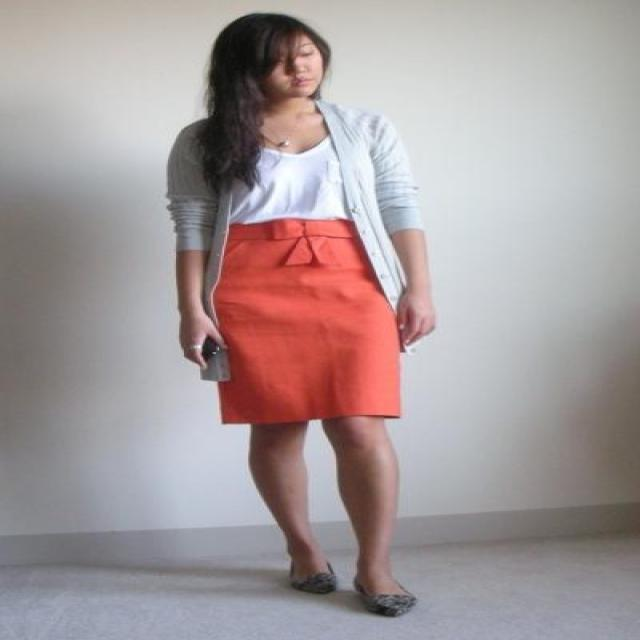jacket: (166, 94, 412, 308)
shirt: (221, 130, 355, 238)
skirt: (212, 218, 402, 427)
